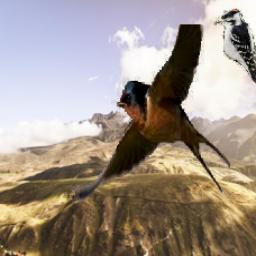Swallow: (71, 25, 230, 208)
Woodpecker: (211, 9, 256, 85)
